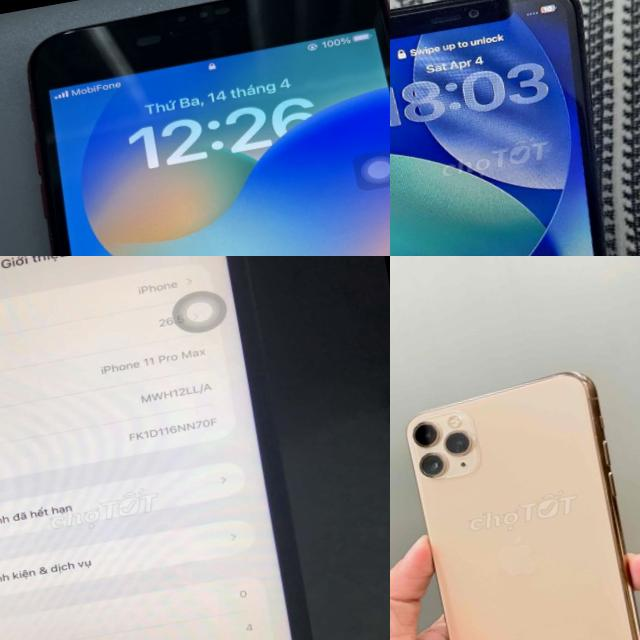scratch: (47, 0, 299, 63)
